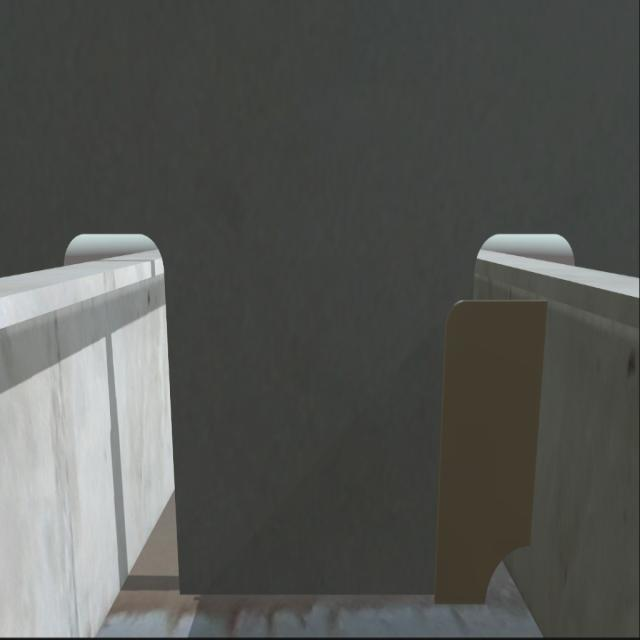fillet_hole: (481, 548, 529, 602)
fillet_yong_jeop_jang: (169, 583, 495, 605)
longi_yong_jeop_jang: (520, 295, 551, 555)
plate_CP05: (436, 303, 546, 605)
